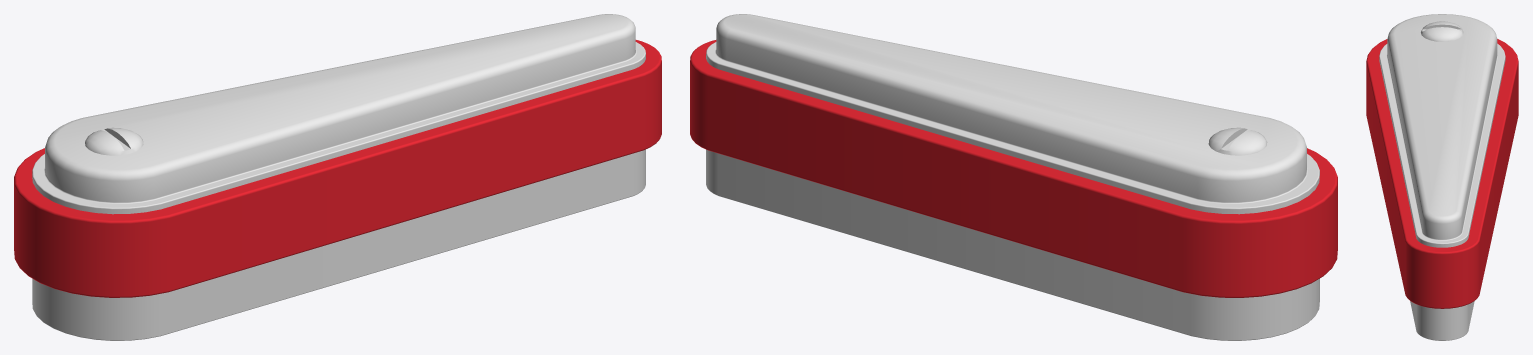
File: Flipper, Gottlieb, Variant 3 (3in) - Hipoly.fbx
3 renders of one model, left to right at view 1: azimuth 30°, elevation 25°; view 2: azimuth 150°, elevation 25°; view 3: azimuth 270°, elevation 25°, orthographic. The views are drawn at different scales.
Parts seen in each view (by area): view 1: Flipper, Gottlieb, Variant 3 (3"); view 2: Flipper, Gottlieb, Variant 3 (3"); view 3: Flipper, Gottlieb, Variant 3 (3").
Part boxes in pixels (bbox=[...]): Flipper, Gottlieb, Variant 3 (3"): bbox=[14, 14, 661, 340]; Flipper, Gottlieb, Variant 3 (3"): bbox=[690, 14, 1337, 340]; Flipper, Gottlieb, Variant 3 (3"): bbox=[1366, 14, 1518, 340].
Bounding box in the file's own units: 7.85 × 2.06 × 2.25.
